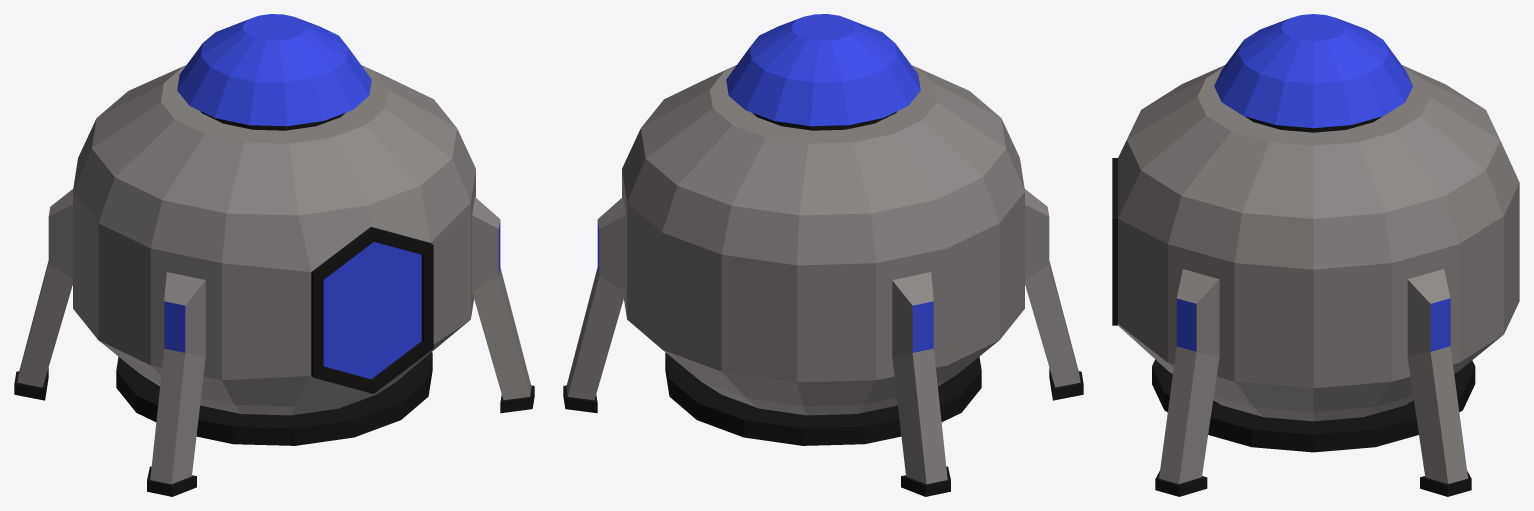
File: Rocket.fbx_Rocket.fbx
3 views of the same model, side by side, from view 1: azimuth 30°, elevation 25°; view 2: azimuth 150°, elevation 25°; view 3: azimuth 270°, elevation 25° (orthographic).
Visible parts, largest first — view 1: Rocket; view 2: Rocket; view 3: Rocket.
Boxes of the visible parts, x1,y1,x2,y2 form: Rocket: (14,14,534,496); Rocket: (563,14,1083,496); Rocket: (1112,14,1519,496).
Size of the model in its own units: 90.35 by 82.08 by 81.14.
